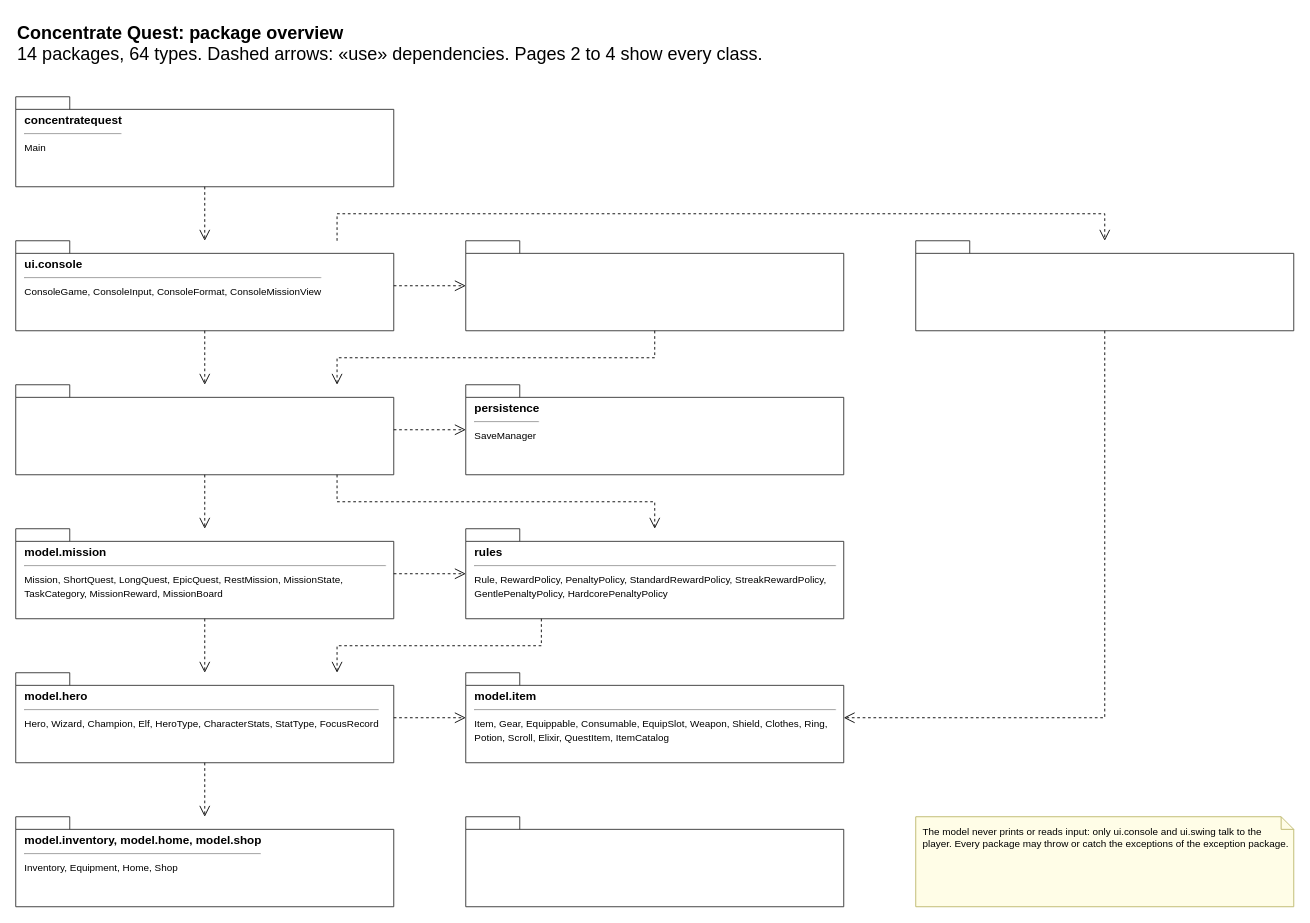
Image size: 1310x923. Some labels were removed from this diagram. Here are the shapes that lost their labels. From the top down, the centre of each, then its label:
At [654,285]: "ui.swing QuestDialog, BrownNoise".
At [1104,285]: "data CustomItemLoader".
At [204,429]: "game MissionController, GameState, GameSettings, MissionListener".
At [654,861]: "exception GameException and 7 subclasses, InvalidMissionStateException".
